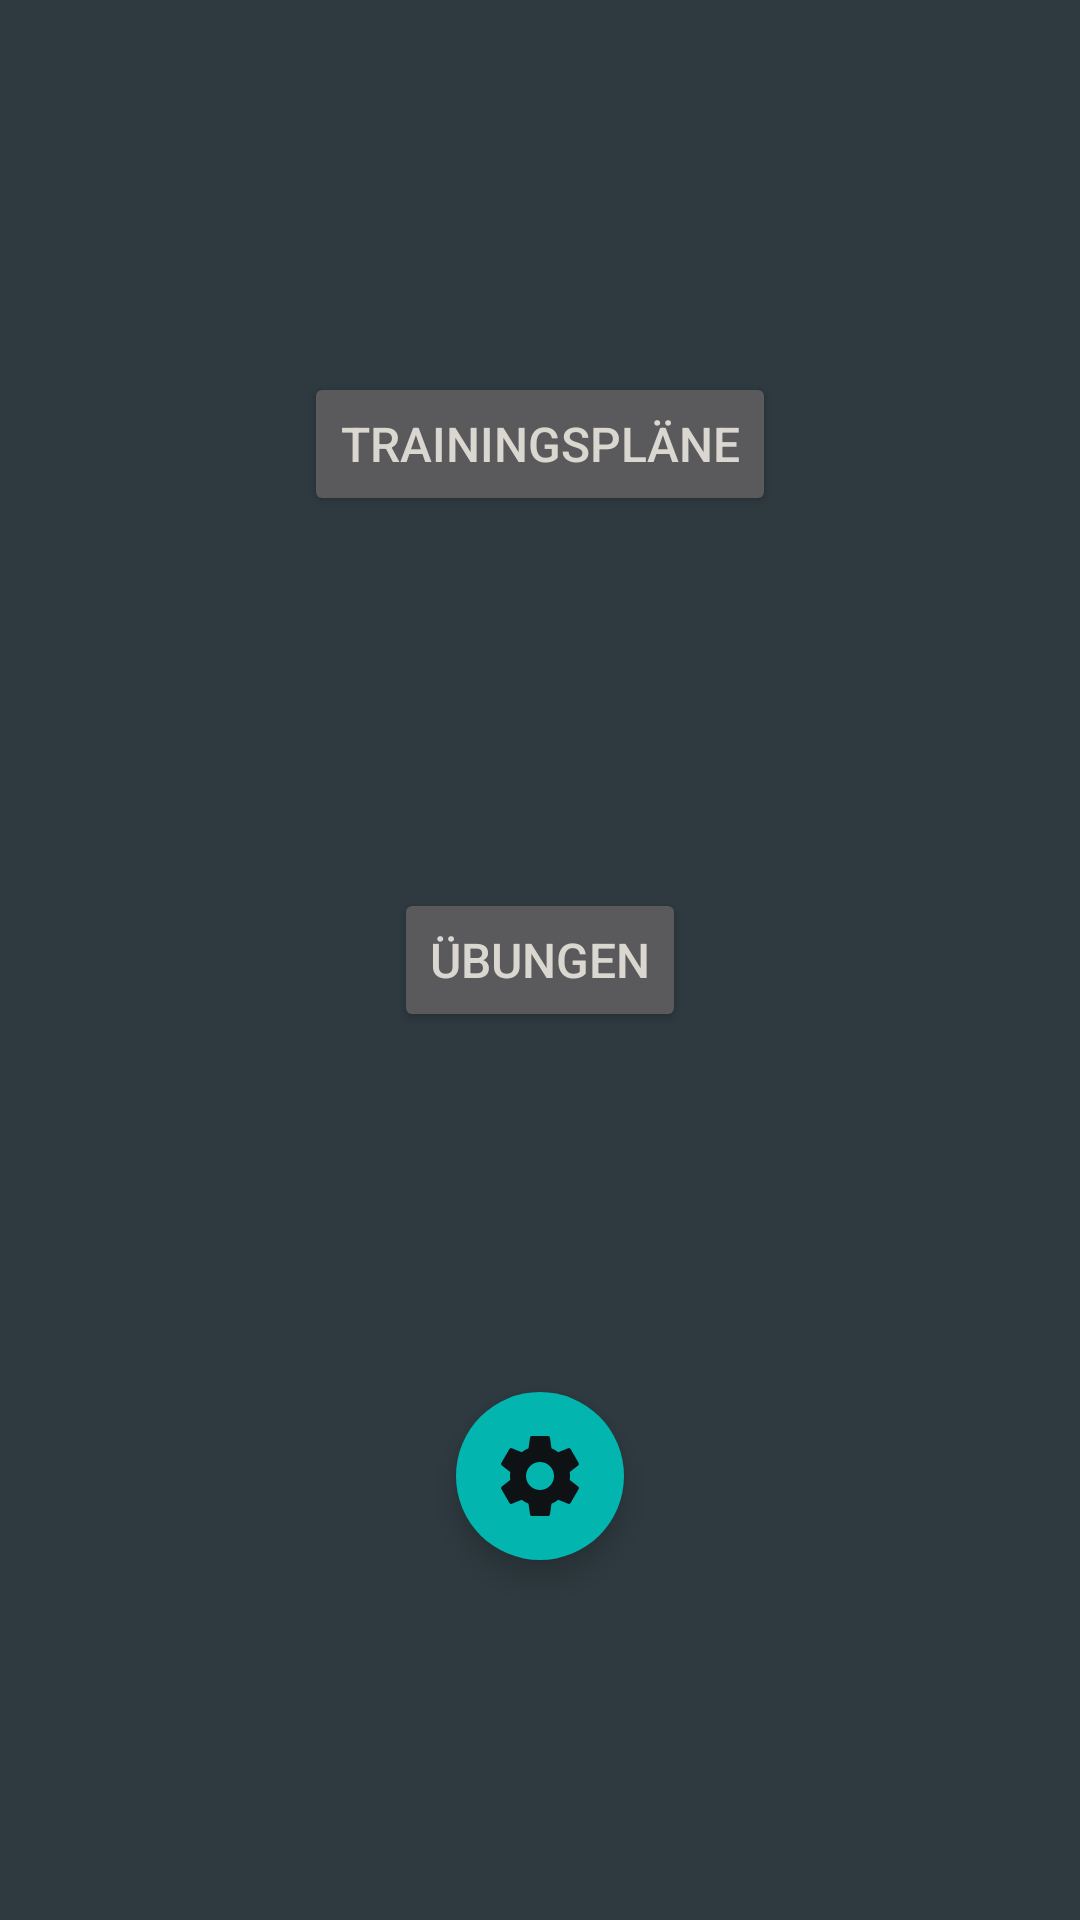

Screen size 1080*1920. Icon name, then its box in pixels as (x1, y1, x2, y2):
settings: (456, 1392, 624, 1560)
